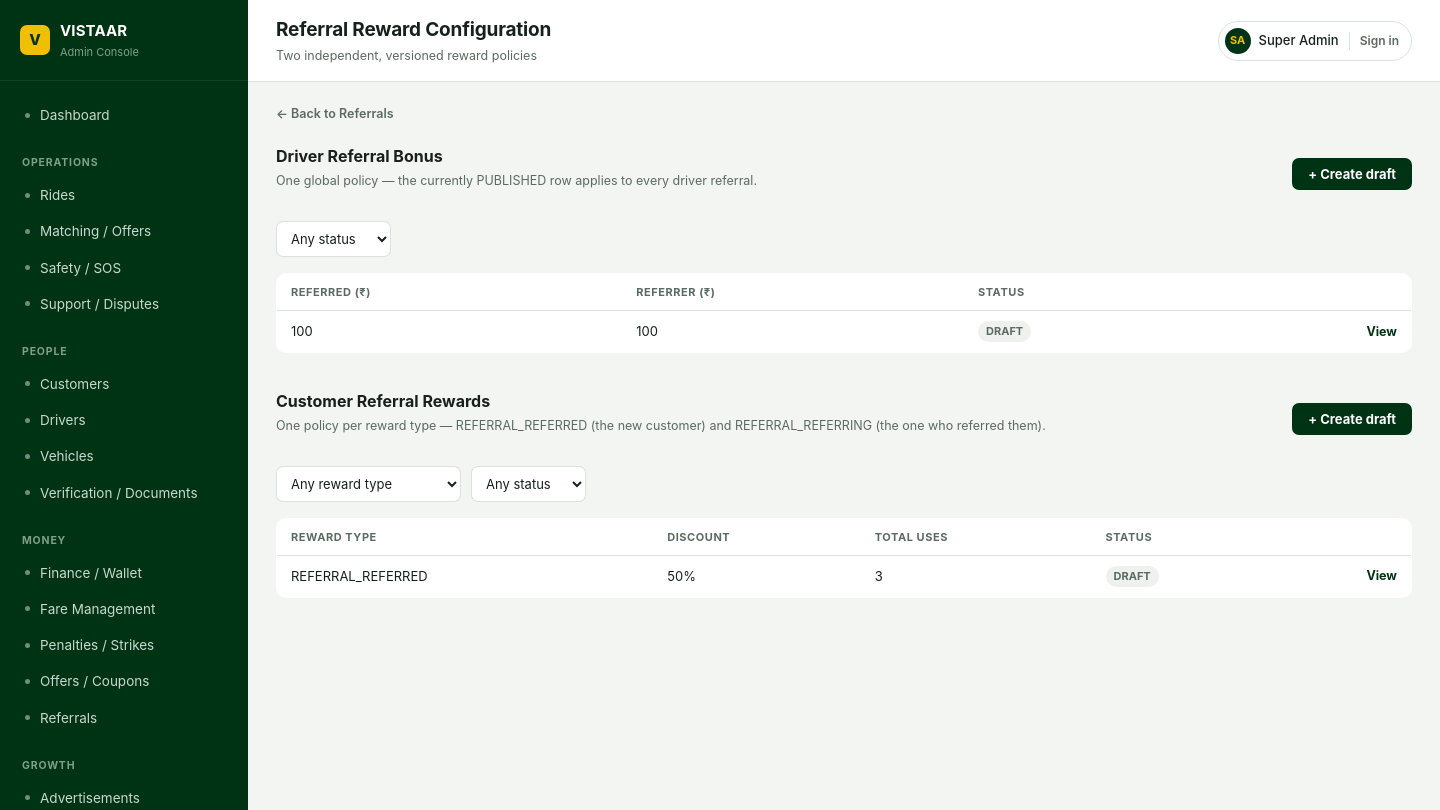
Test case: RewardConfigPage › creates a customer-reward draft with the entered fields
expect the text "Customer Referral Rewards" is shown: met, box x1=276 y1=391 x2=490 y2=411
Click the button "+ Create draft" in the row of "Customer Referral Rewards" at (1352, 419), box x1=1292 y1=403 x2=1412 y2=435
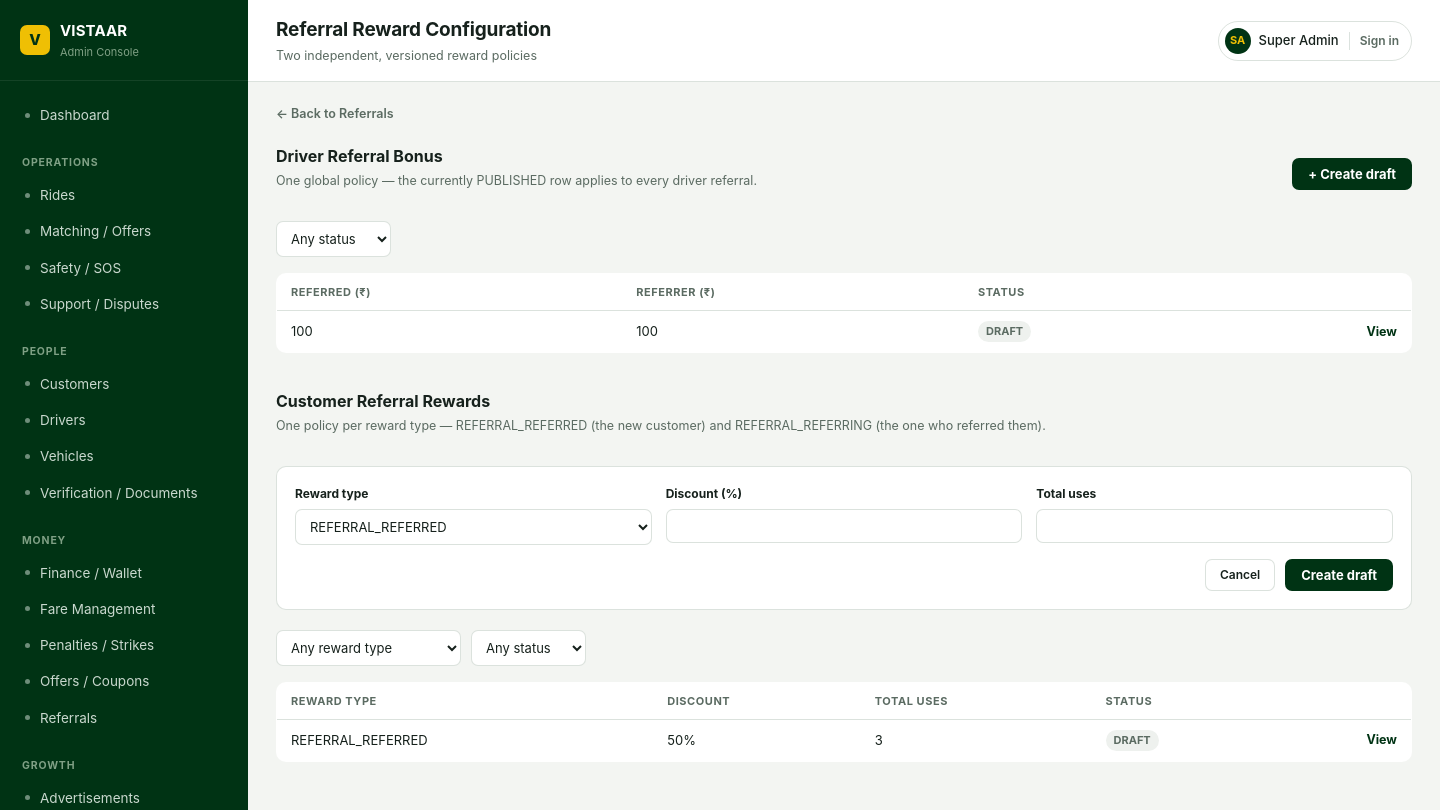
Type "50" into the number field labelled "Discount (%)" at (844, 526), box x1=666 y1=508 x2=1022 y2=542
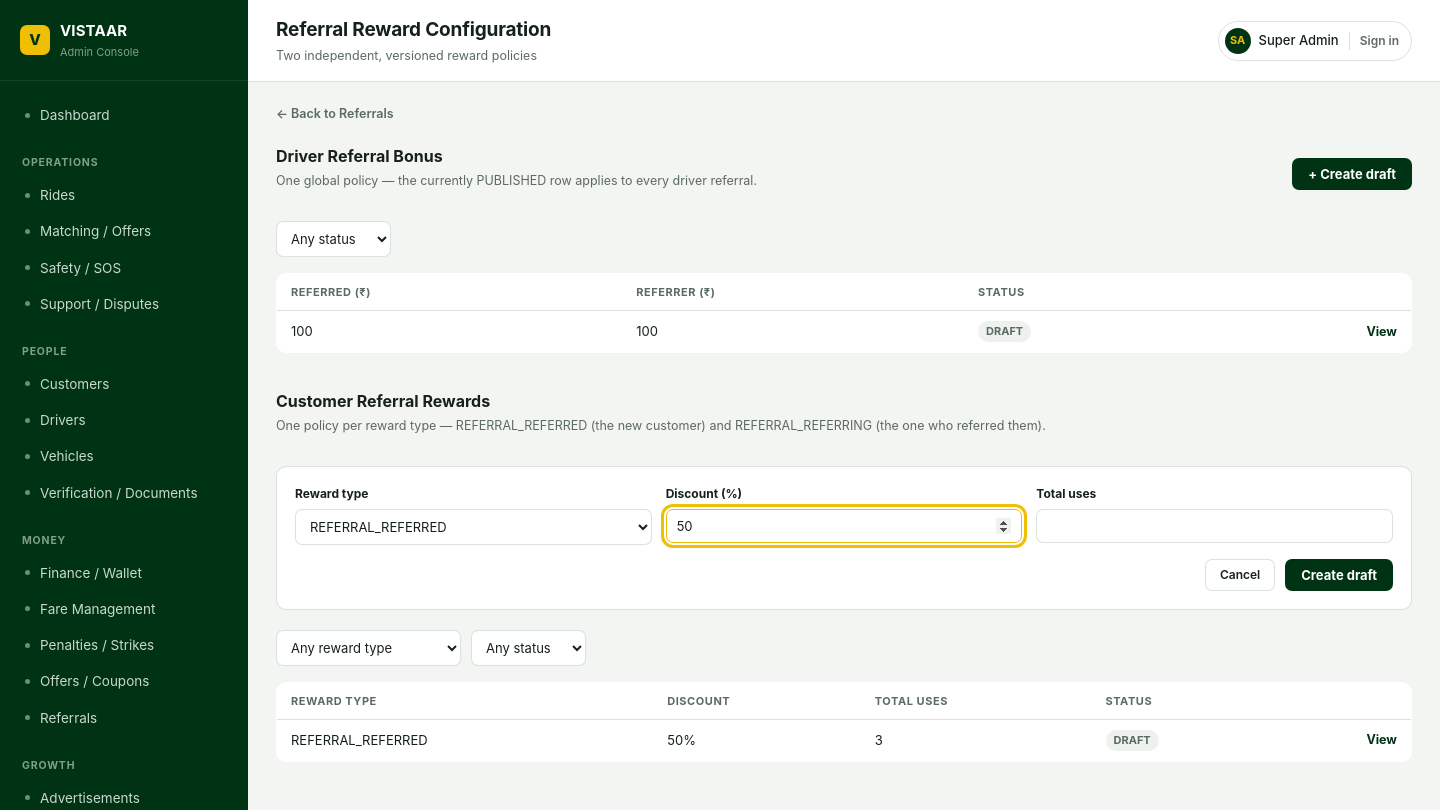
Type "3" into the number field labelled "Total uses" at (1215, 526), box x1=1036 y1=508 x2=1393 y2=542
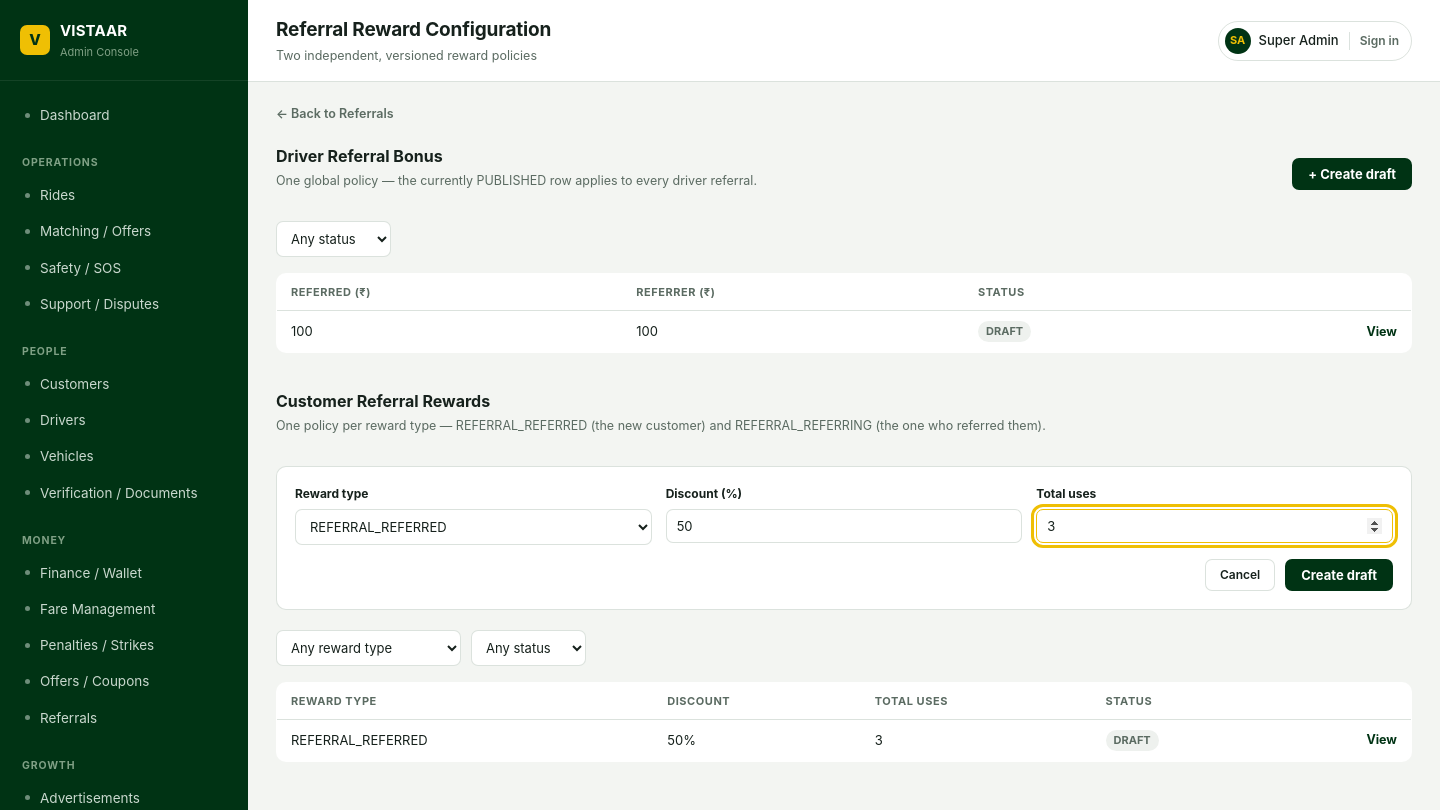
Click the button "Create draft" at (1339, 574), box x1=1285 y1=558 x2=1393 y2=590
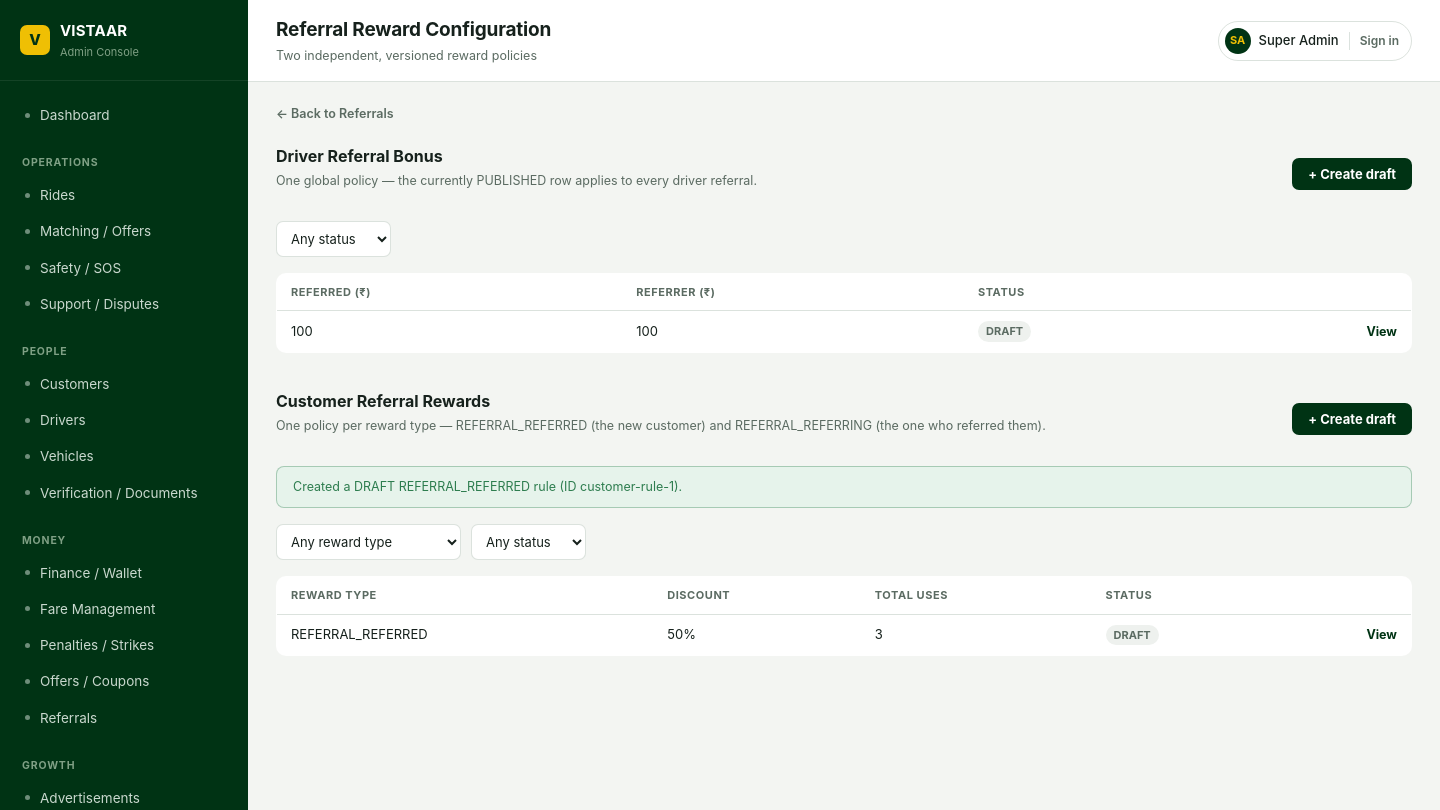
expect the text "Created a DRAFT REFERRAL_REFERRED rule (ID customer-rule-1)." is shown: met, box x1=276 y1=466 x2=1412 y2=508
